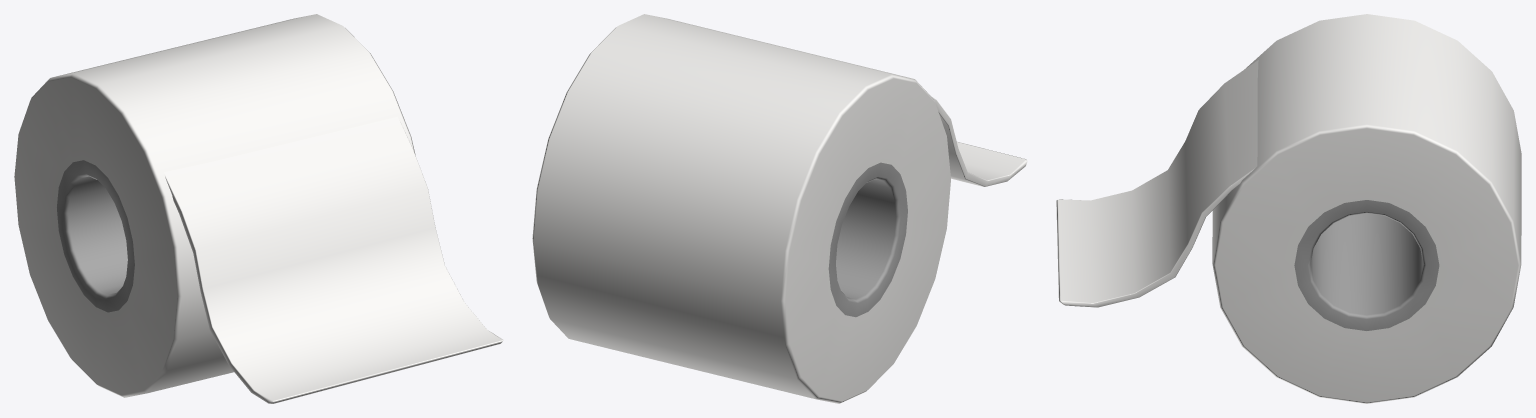
The model's file is Toilet_Paper_1.glb.
The picture shows the model from 3 angles, left to right: view 1: azimuth 30°, elevation 25°; view 2: azimuth 150°, elevation 25°; view 3: azimuth 270°, elevation 25°; orthographic projection. The views are drawn at different scales.
Visible parts, largest first — view 1: Toilet_Paper_1; view 2: Toilet_Paper_1; view 3: Toilet_Paper_1.
Boxes of the visible parts, box(x1,y1,x2,y2) form: Toilet_Paper_1: box(14, 14, 503, 403); Toilet_Paper_1: box(532, 14, 1027, 403); Toilet_Paper_1: box(1056, 14, 1521, 403).
Size of the model in its own units: 0.1357 by 0.1565 by 0.236.
Materials: 1 (1 with a texture image).
